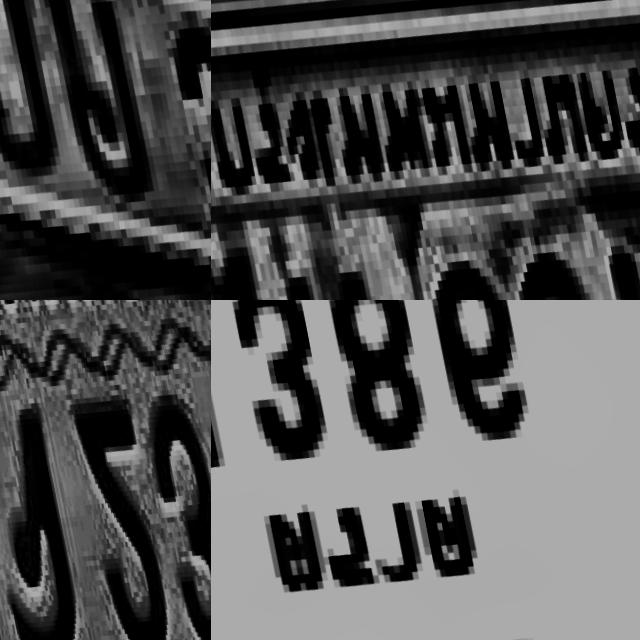license-plate: (211, 300, 640, 640), (211, 0, 640, 300), (0, 300, 211, 640), (0, 0, 211, 300)
